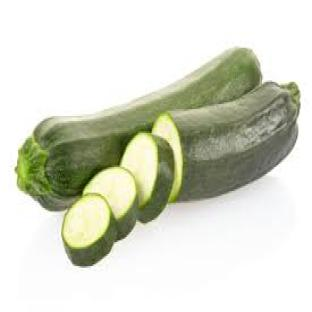Zucchini: (16, 48, 260, 209), (153, 82, 299, 201), (121, 132, 174, 223), (83, 168, 138, 240), (62, 195, 116, 265)
